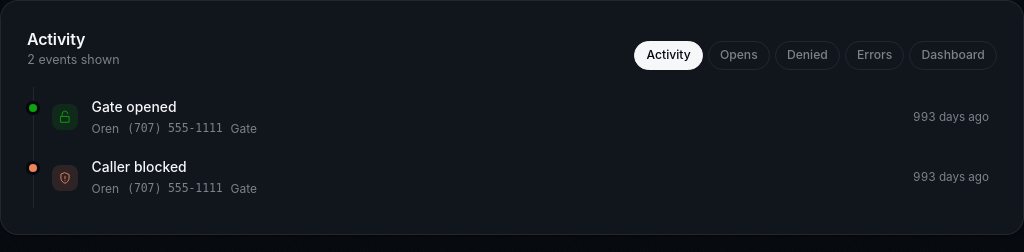
Scenario: ActivityPanel › shows only events in the selected category
Step 1. Click the button "Denied" → {"x": 807, "y": 55}, box [775,40,840,70]
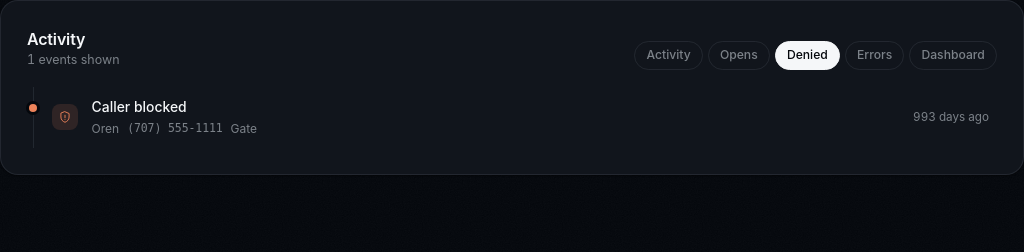
Now the text "1 events shown" is shown, box [27,51,120,70]
